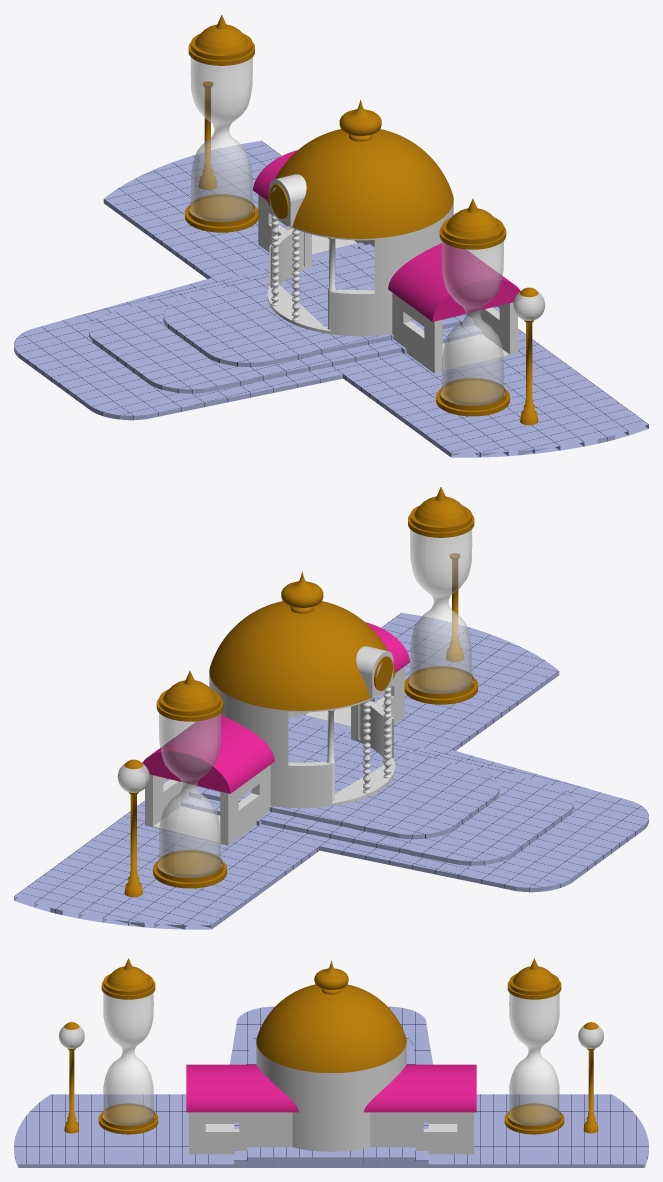
Rendered from 精神との部屋.fbx.
The picture shows the model from 3 angles, top to bottom: view 1: azimuth 30°, elevation 25°; view 2: azimuth 150°, elevation 25°; view 3: azimuth 270°, elevation 25°; orthographic projection. The views are drawn at different scales.
Visible parts, largest first — view 1: Base1, 宮殿屋根, Base3, Base2, 砂時計2, 砂時計1, 宮殿, 横屋根, 砂時計1内側, 砂時計2内側, 横, 宮殿のてっぺん (+6 smaller); view 2: Base1, 宮殿屋根, Base3, Base2, 砂時計1, 砂時計2, 宮殿, 横屋根, 砂時計2内側, 砂時計1内側, 横, 宮殿のてっぺん (+6 smaller); view 3: Base1, 宮殿屋根, 横屋根, 横, 宮殿, 砂時計1, 砂時計2, 砂時計1内側, 砂時計2内側, Base3, Base2, 宮殿のてっぺん (+4 smaller).
Boxes of the visible parts, x1,y1,x2,y2 form: Base1: [14, 141, 648, 457]; 宮殿屋根: [267, 129, 453, 238]; Base3: [163, 244, 499, 367]; Base2: [88, 242, 481, 393]; 砂時計2: [436, 198, 509, 416]; 砂時計1: [185, 14, 258, 232]; 宮殿: [267, 202, 453, 336]; 横屋根: [253, 150, 520, 321]; 砂時計1内側: [194, 60, 249, 219]; 砂時計2内側: [445, 244, 500, 403]; 横: [258, 194, 517, 373]; 宮殿のてっぺん: [339, 99, 381, 141]; Base1: [14, 613, 648, 929]; 宮殿屋根: [209, 601, 395, 710]; Base3: [163, 716, 499, 839]; Base2: [181, 714, 574, 865]; 砂時計1: [153, 670, 226, 888]; 砂時計2: [404, 486, 477, 704]; 宮殿: [209, 674, 395, 808]; 横屋根: [142, 622, 409, 793]; 砂時計2内側: [413, 532, 468, 691]; 砂時計1内側: [162, 716, 217, 875]; 横: [145, 666, 404, 845]; 宮殿のてっぺん: [281, 571, 323, 613]; Base1: [14, 1006, 648, 1167]; 宮殿屋根: [256, 984, 406, 1072]; 横屋根: [186, 1064, 476, 1112]; 横: [189, 1112, 473, 1154]; 宮殿: [256, 1043, 406, 1151]; 砂時計1: [504, 958, 564, 1134]; 砂時計2: [98, 958, 158, 1134]; 砂時計1内側: [511, 995, 557, 1124]; 砂時計2内側: [105, 995, 151, 1124]; Base3: [247, 1147, 415, 1160]; Base2: [234, 1036, 428, 1164]; 宮殿のてっぺん: [314, 960, 348, 994].
Size of the model in its own units: 1441 by 726 by 2450.
